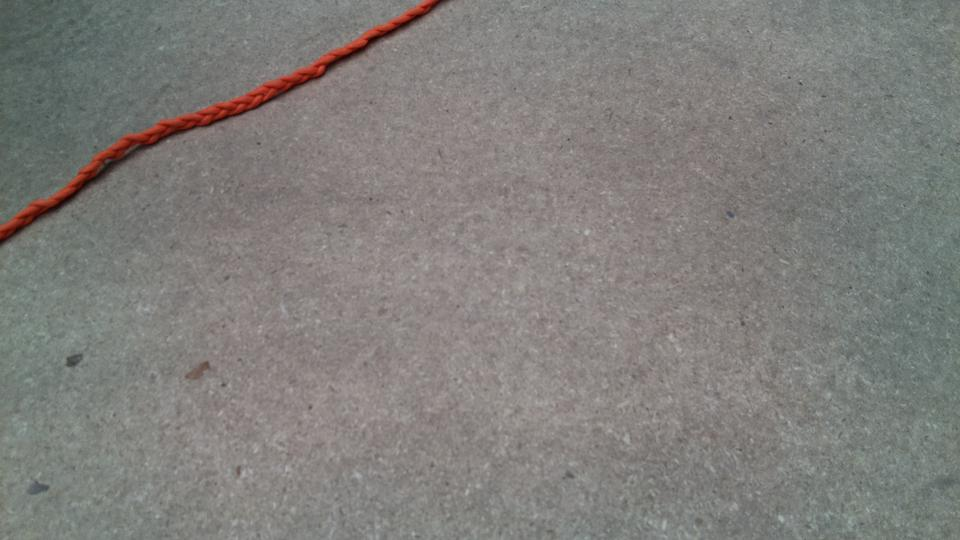rope: (1, 1, 425, 225)
